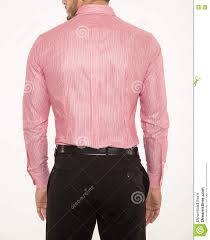F_belt: (52, 140, 151, 167)
F_dress pants: (41, 156, 153, 236)
